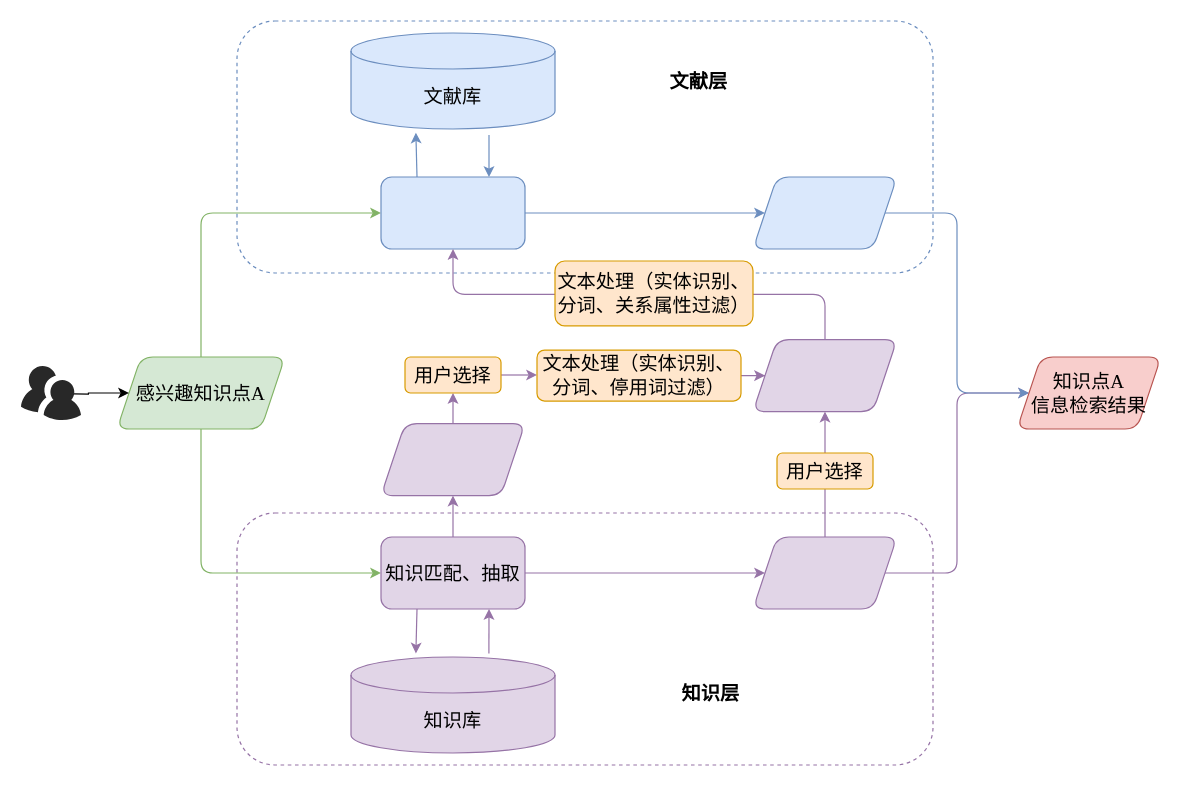
The diagram is 1182 pixels wide and 786 high, and some of its shapes have lost their labels. Here are the shapes that lost their labels. From the top down, the box of each, then its label:
(380, 176, 525, 249): Lucene全文检索
(752, 176, 897, 249): 知识点A相关 文献语料
(752, 338, 897, 412): 感兴趣的 三元组数据集
(380, 422, 525, 496): N元关系 子事件链表
(752, 536, 897, 609): 知识点A相关 三元组数据集
